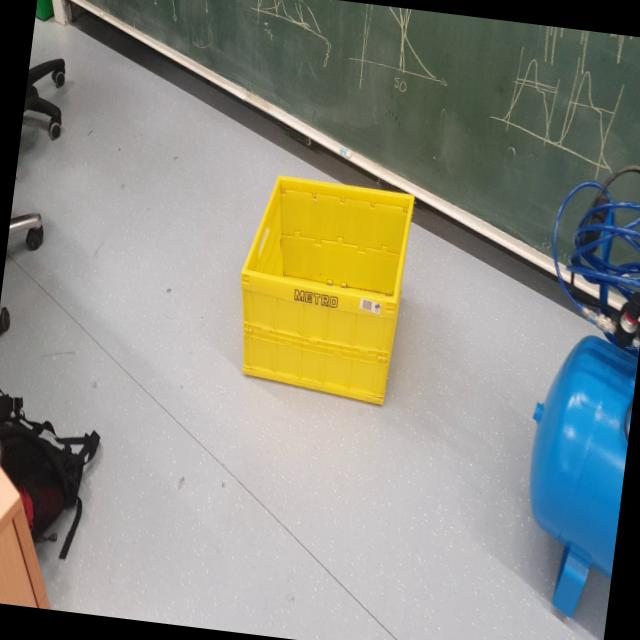box: (217, 164, 424, 425)
